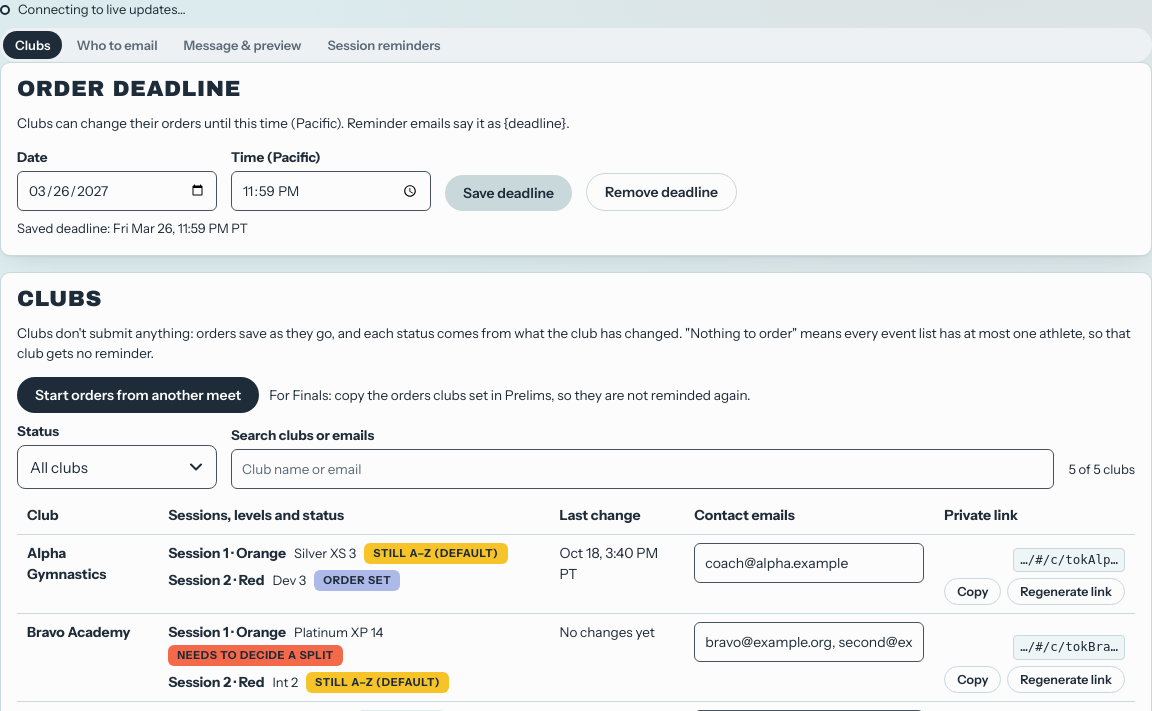
it: Start orders from another meet › is a button on the Clubs pill that opens the copy dialog for this meet, with the other meets as sources
This screenshot has width=1152, height=711.
Expected: the heading "Clubs" is shown, [17,287,102,311]
Click the button "Start orders from another meet" at (138, 395), box [17,377,259,413]
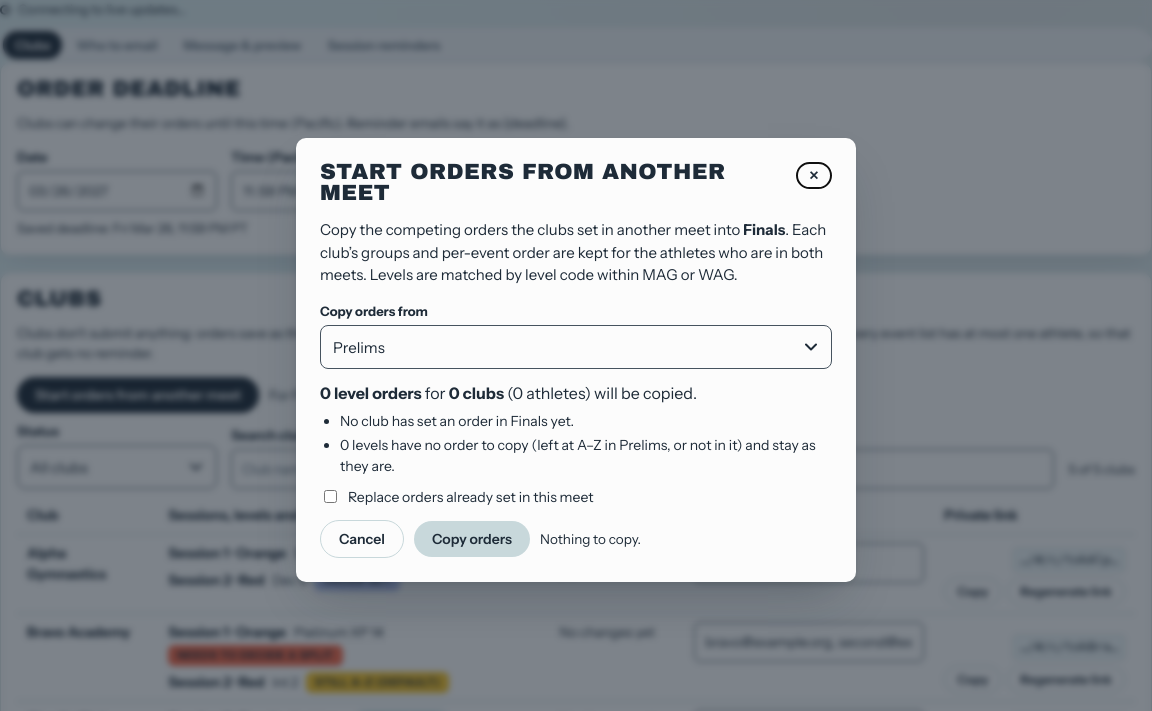
Now the dialog "Start orders from another meet" shows "Finals", box [743,220,785,239]
Now the dropdown named "Copy orders from" reads "Prelims", box [320,325,832,369]
Click the button "Cancel" at (362, 539), box [320,520,404,558]
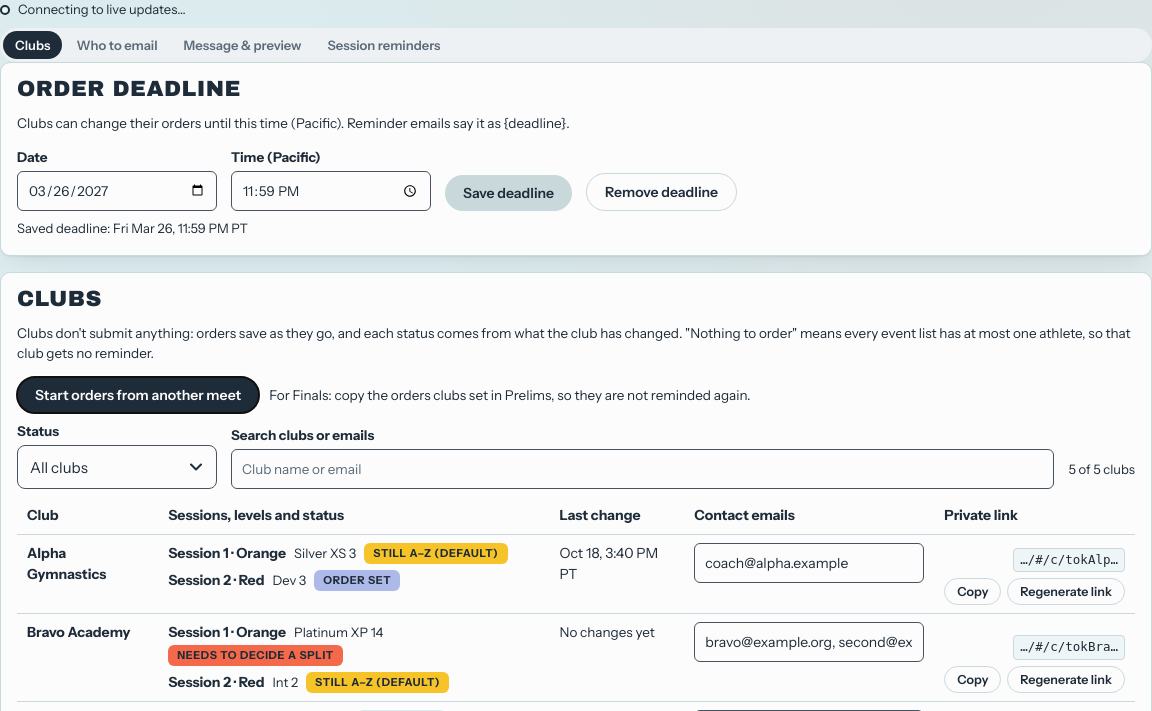
Now the dialog is gone
